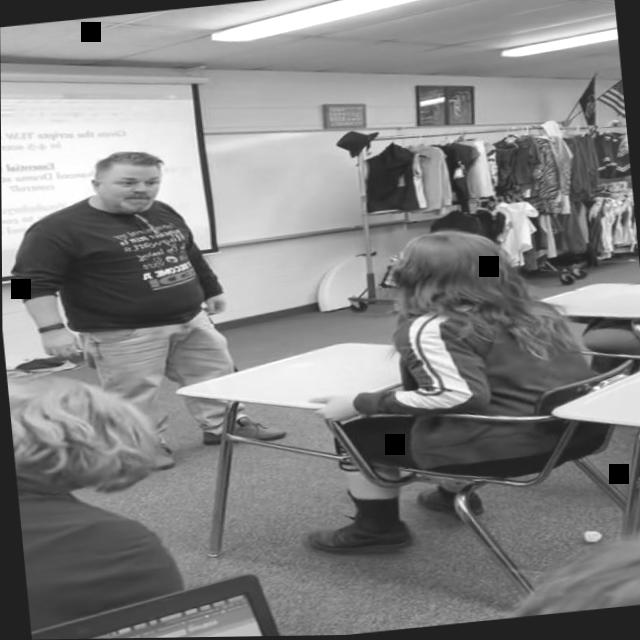NO-Mask: (89, 155, 164, 216)
